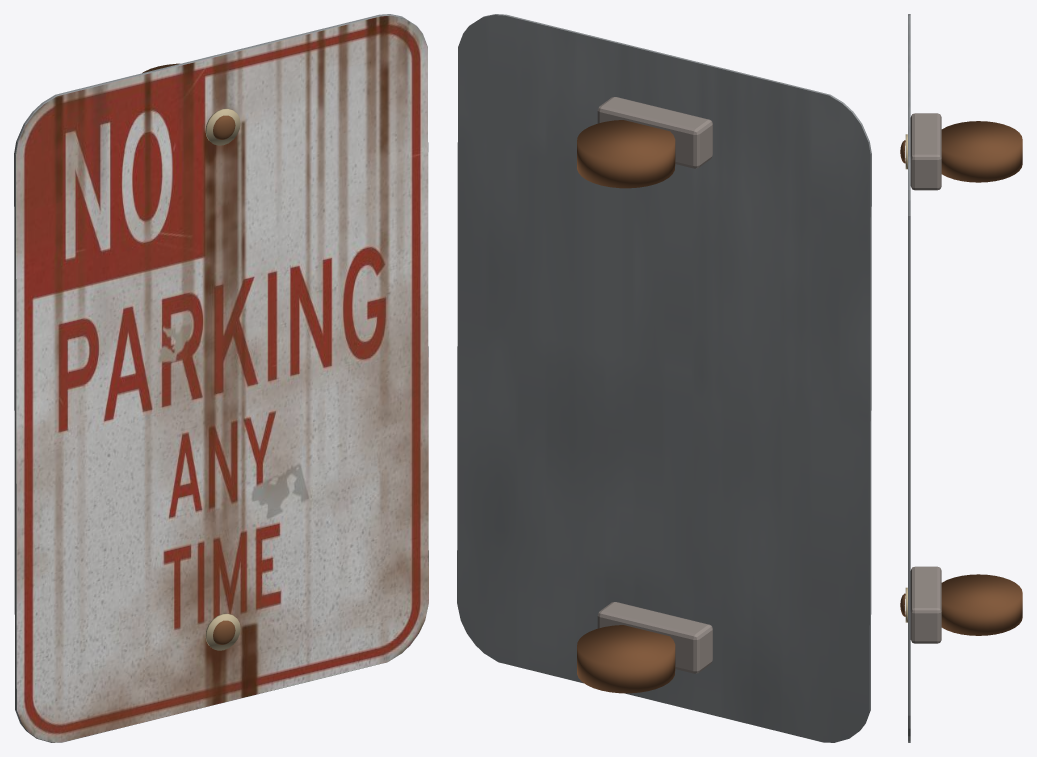
File: noParking-v1-rusty.glb
The picture shows the model from 3 angles, left to right: view 1: azimuth 30°, elevation 25°; view 2: azimuth 150°, elevation 25°; view 3: azimuth 270°, elevation 25°; orthographic projection. The views are drawn at different scales.
Visible parts, largest first — view 1: noParking-v1-rusty; view 2: noParking-v1-rusty; view 3: noParking-v1-rusty.
Boxes of the visible parts, bbox=[...] form: noParking-v1-rusty: bbox=[14, 14, 428, 742]; noParking-v1-rusty: bbox=[457, 14, 871, 742]; noParking-v1-rusty: bbox=[900, 14, 1022, 742].
Bounding box in the file's own units: 0.3048 × 0.4573 × 0.0871.
1 material, 1 textured.
